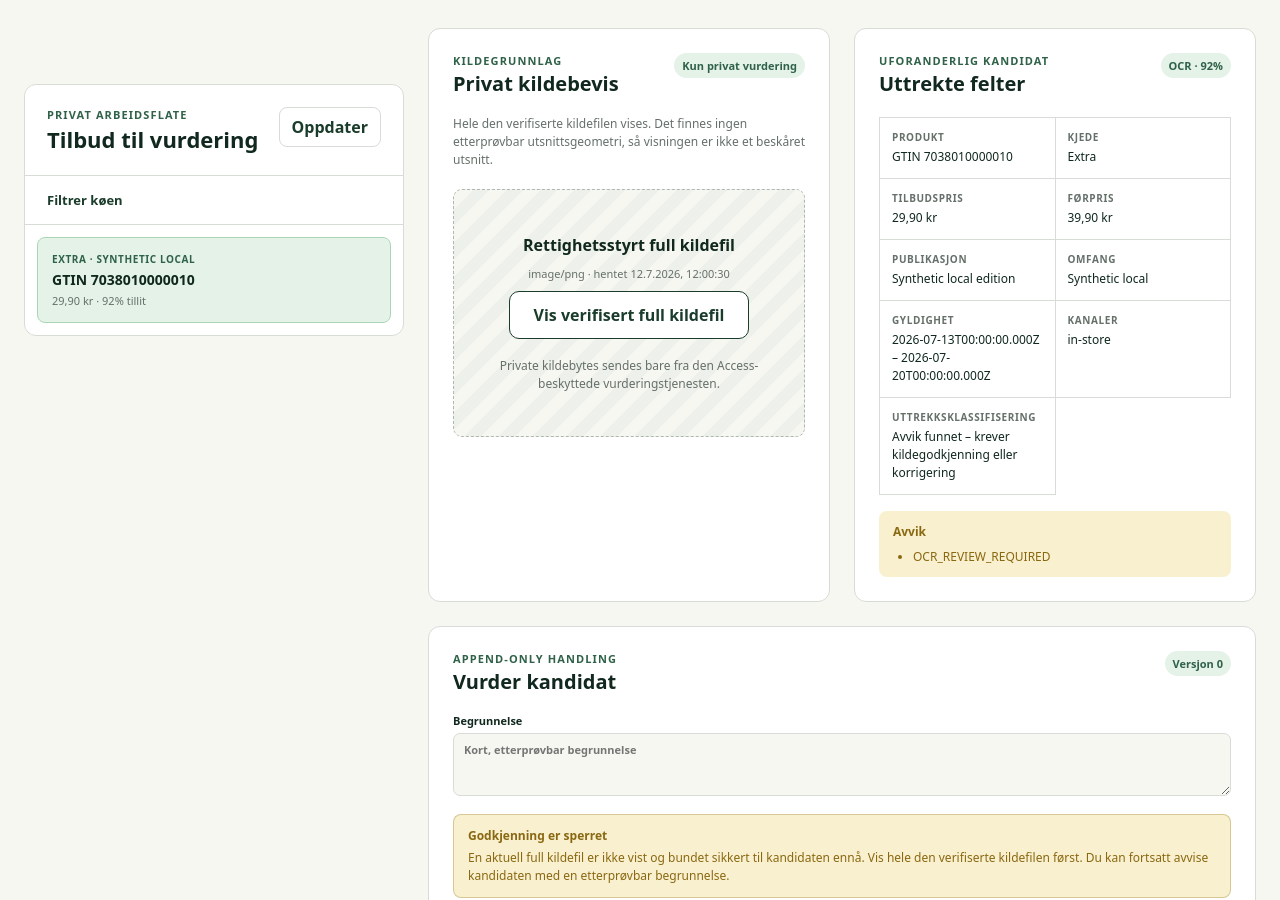
Test case: ReviewWorkspace › blocks approval without renderable evidence while keeping rejection usable
Expected: the heading "Vurder kandidat" is shown, [453, 669, 617, 695]
Type "Kildebeviset kan ikke kontrolleres." into the text box labelled "Begrunnelse".
click(842, 764); type("Kildebeviset kan ikke kontrolleres.")  # box [453, 733, 1231, 796]
(page scrolled)
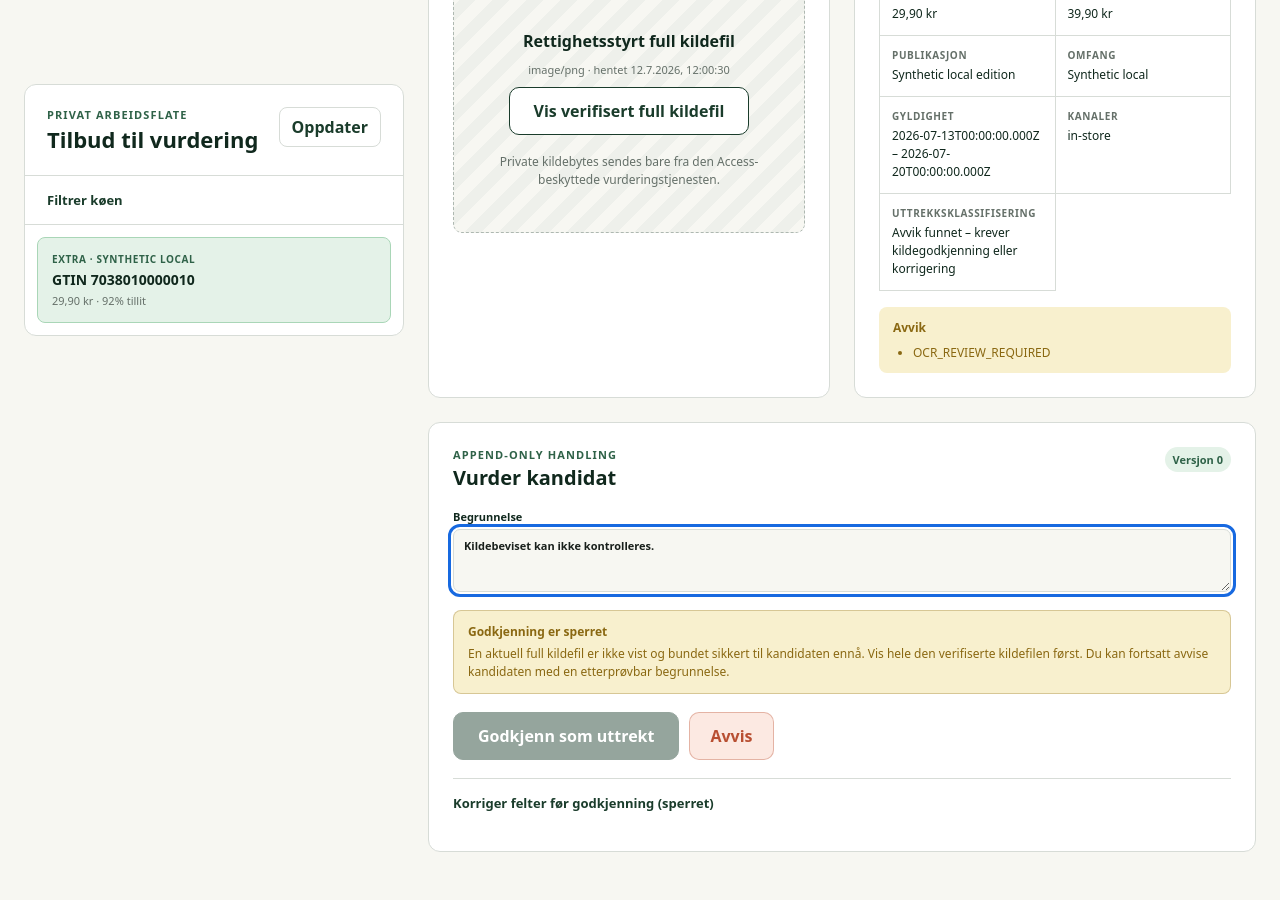
Expected: the button "Godkjenn som uttrekt" is disabled, [453, 712, 680, 760]
Click the heading "Korriger felter før godkjenning (sperret)".
click(583, 803)  # box [453, 794, 714, 812]
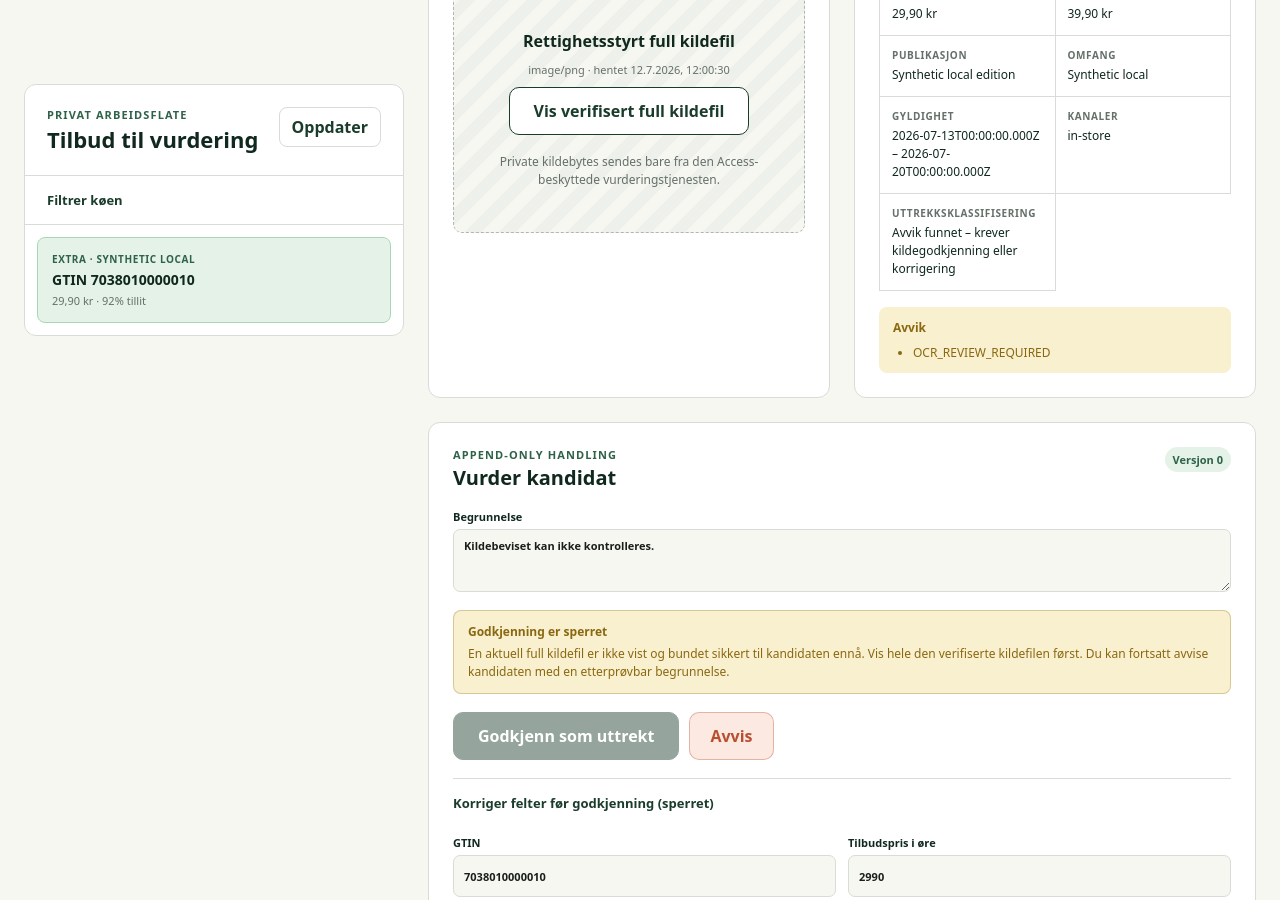
Expected: the field labelled "GTIN" is disabled, [453, 855, 836, 897]
Click the button "Avvis".
click(732, 736)  # box [690, 712, 774, 760]
(page scrolled)
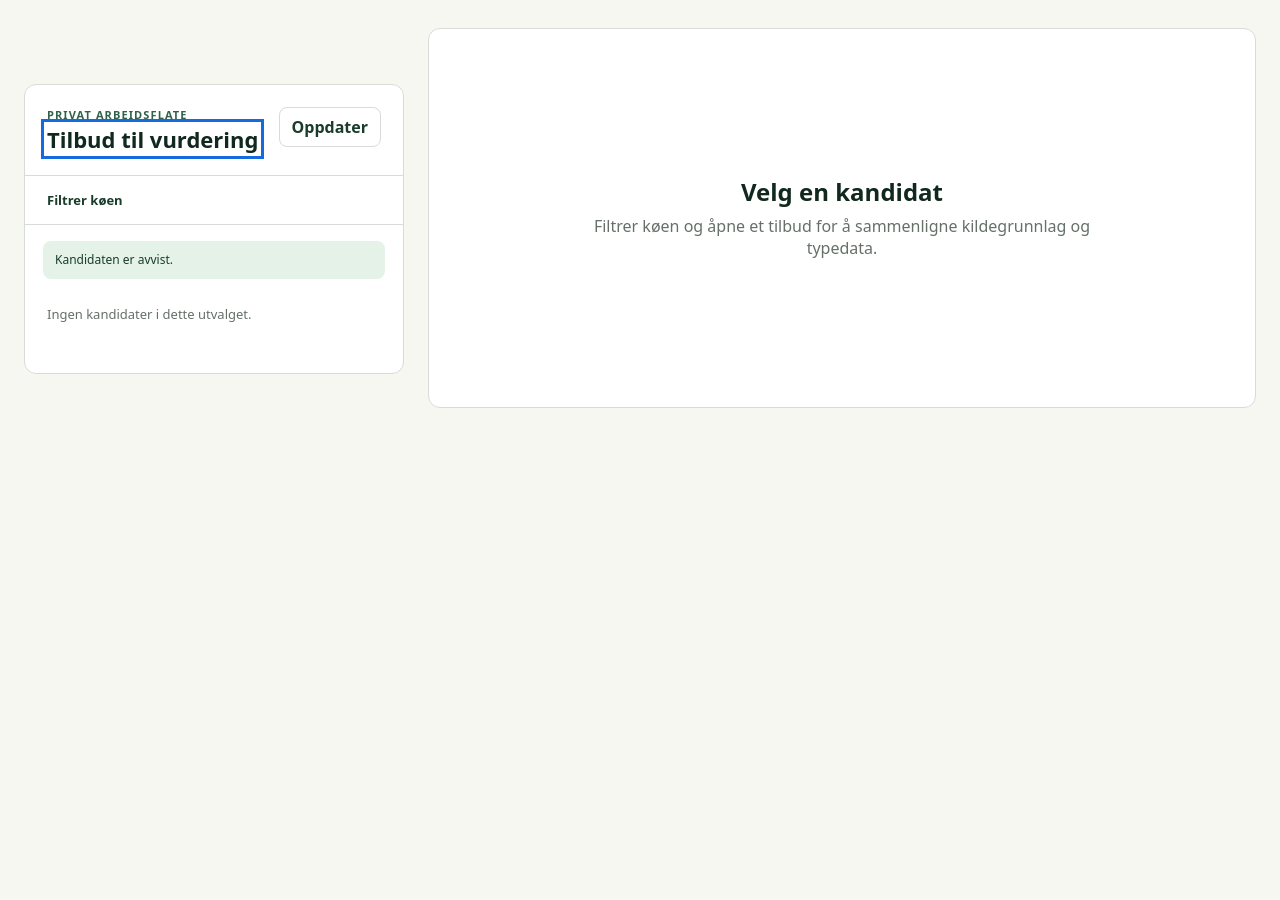
Expected: the text "Kandidaten er avvist." is shown, [43, 241, 385, 279]
Expected: the button "GTIN 7038010000010" is gone
